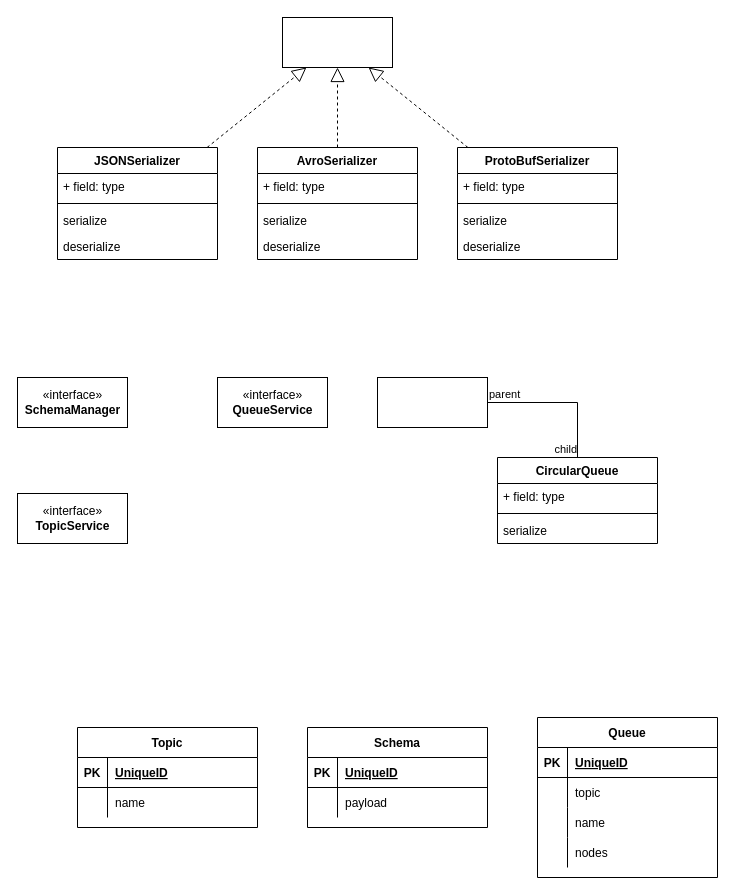
Some shapes in this 735 by 895 pixel diagram are drawn without their labels. The shapes that lost their labels are listed below. From the top down, each one's centre as x and y in pixels, then its label:
At point 337,42: "«interface» Serializer".
At point 432,402: "«interface» QueueManager".
